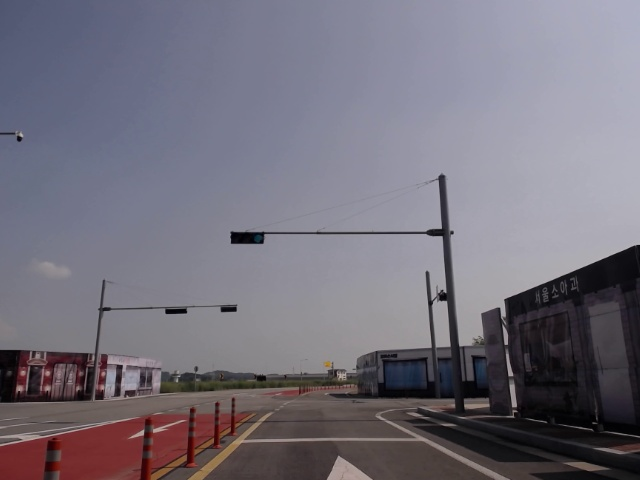green_3: (230, 232, 264, 244)
